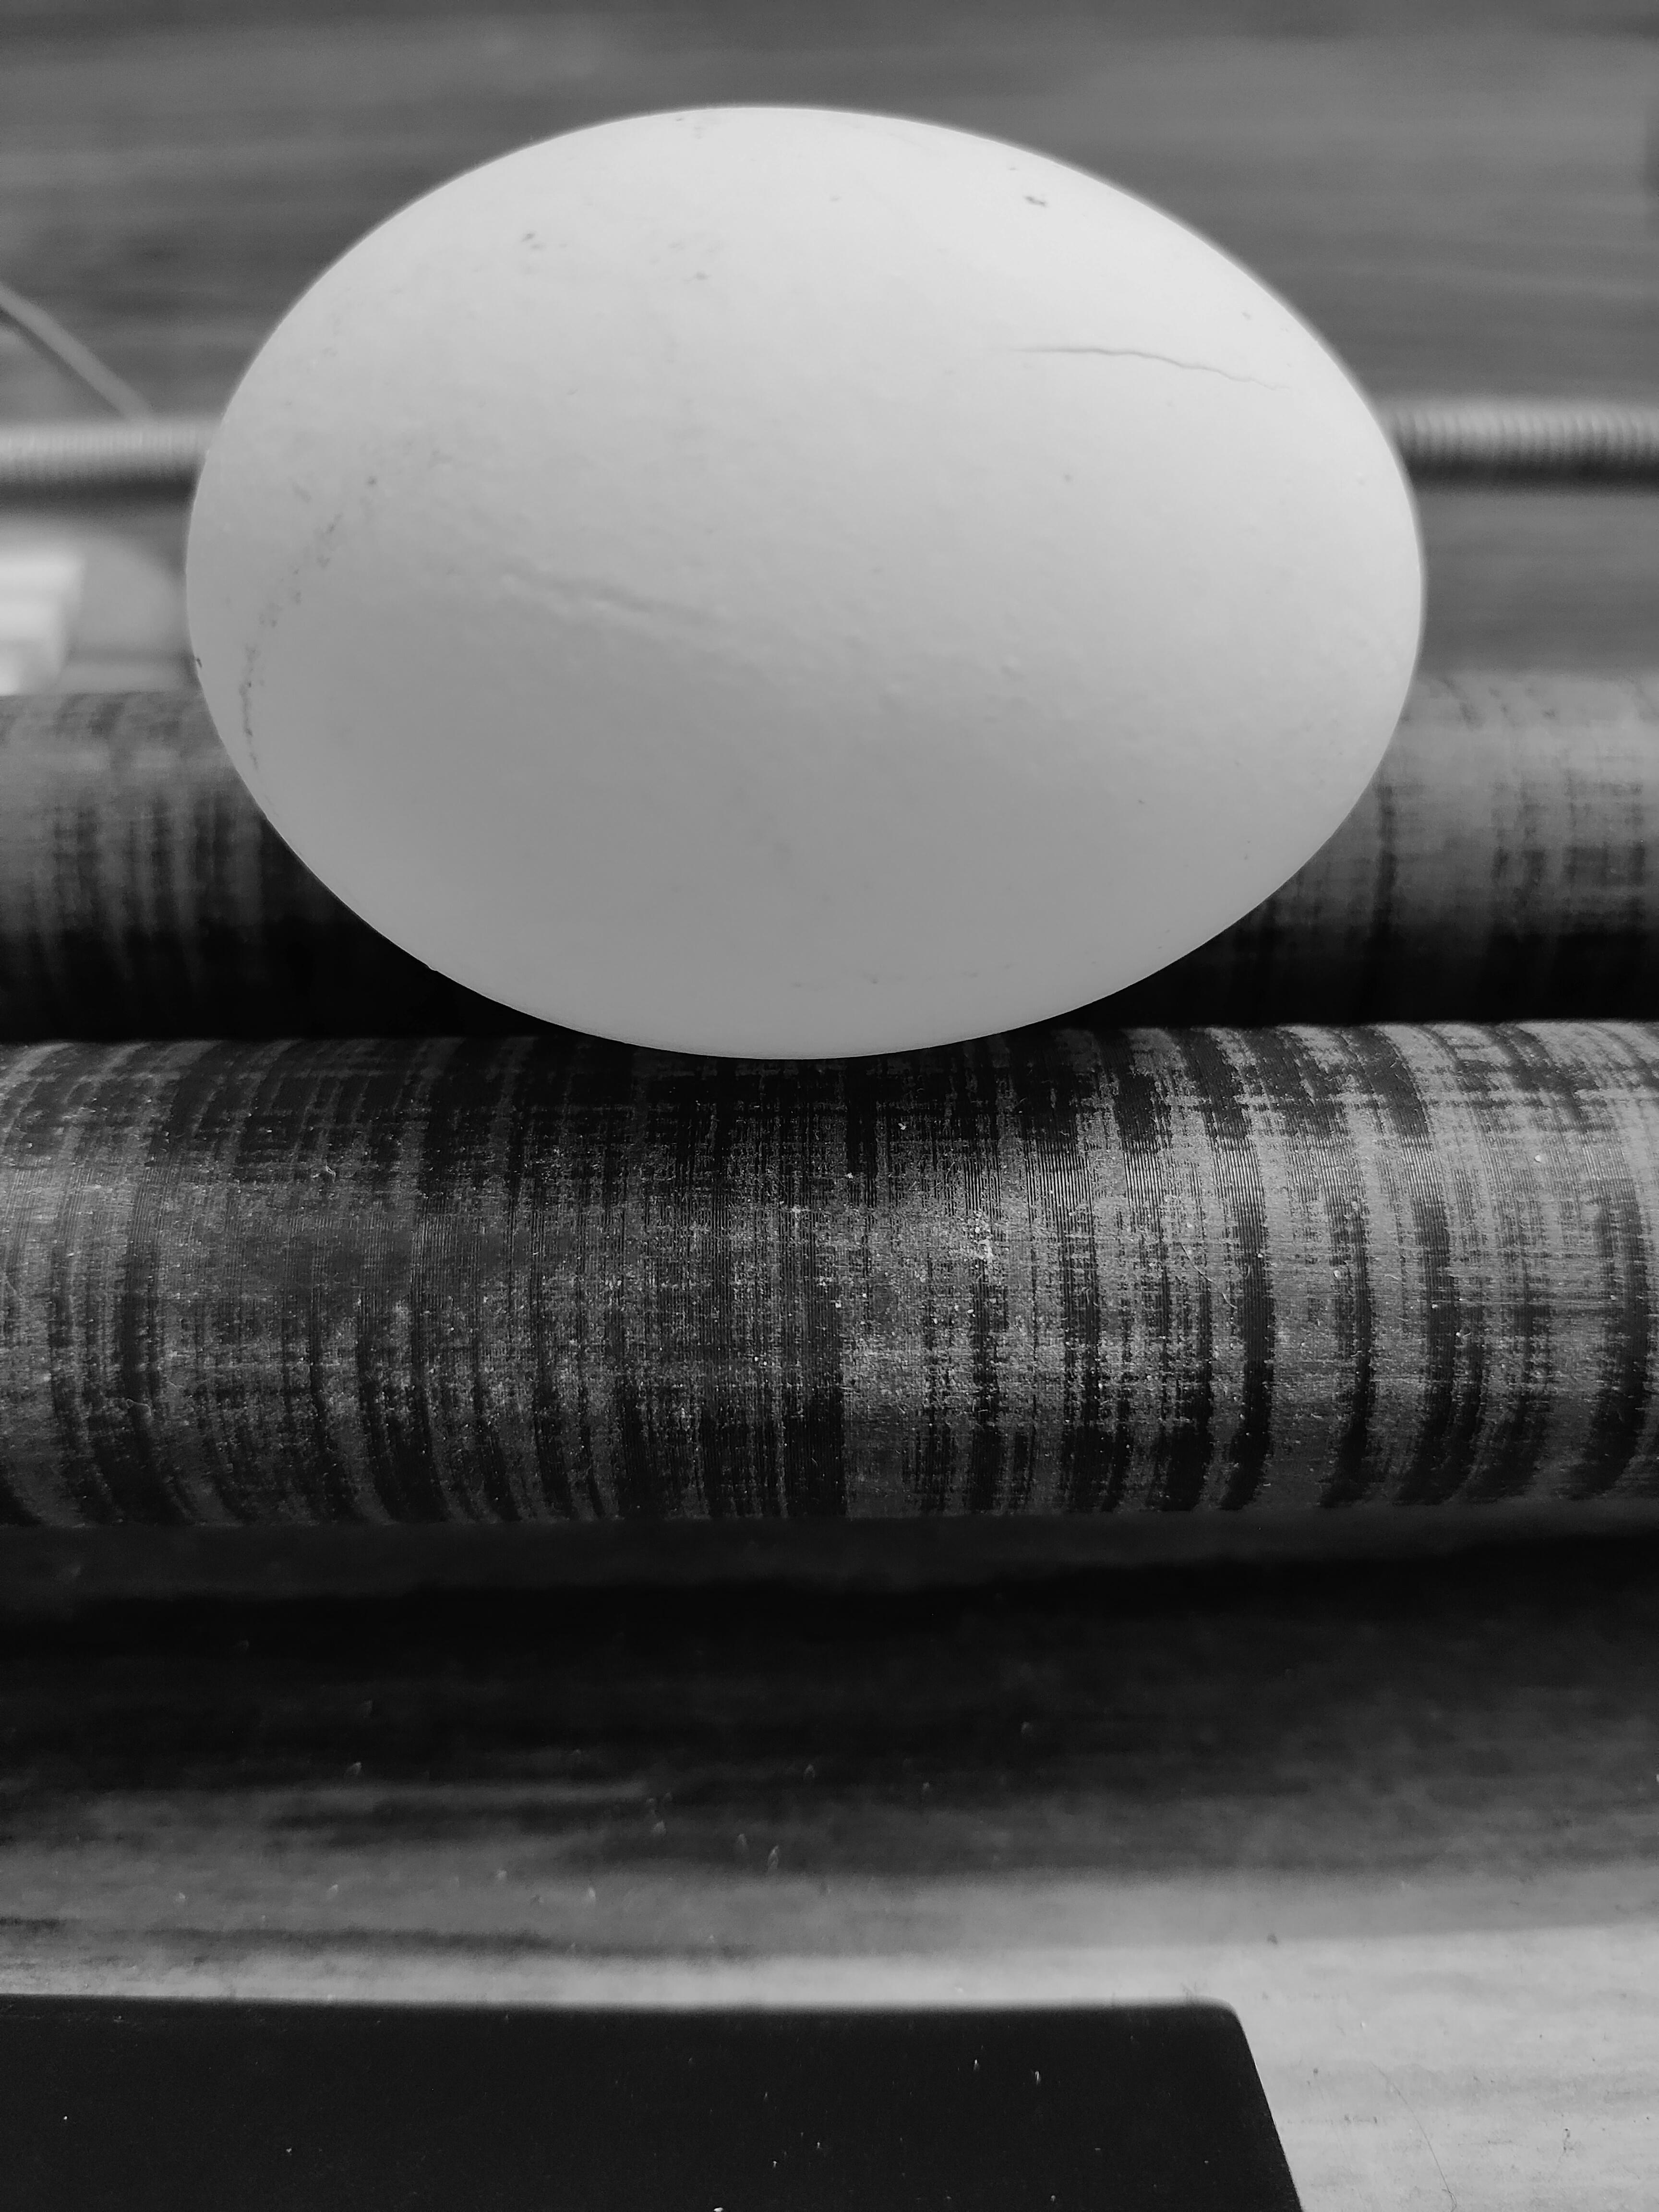telur: (167, 84, 1453, 1087)
